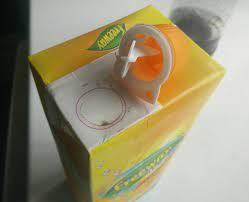cardboard: (28, 0, 224, 200)
